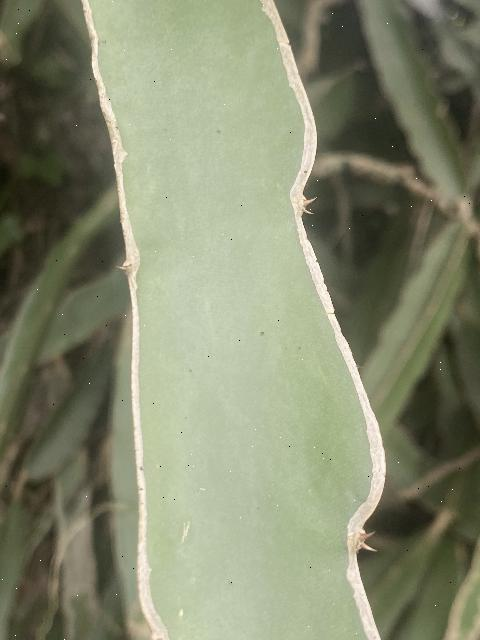stemcanker: (64, 1, 403, 640)
